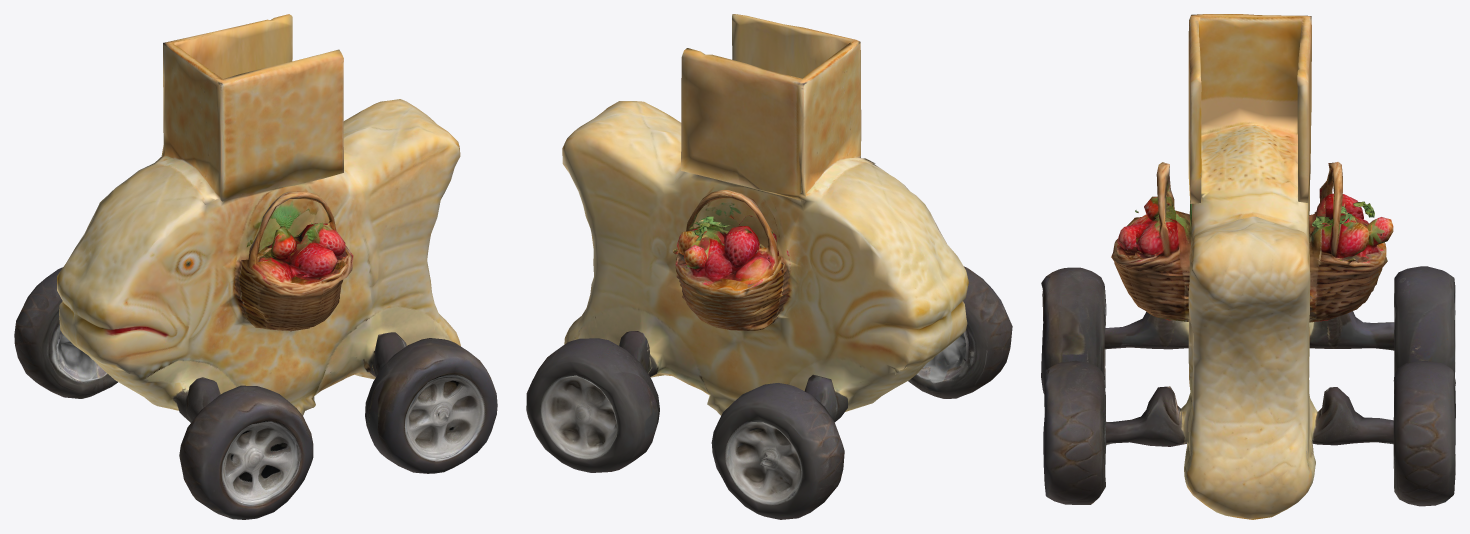
The model's file is Fishy_Wheels_Delight_0522124009_texture.glb.
The picture shows the model from 3 angles, left to right: view 1: azimuth 30°, elevation 25°; view 2: azimuth 150°, elevation 25°; view 3: azimuth 270°, elevation 25°; orthographic projection. The views are drawn at different scales.
Bounding box in the file's own units: 2 × 2 × 1.85.
Materials: 1 (1 with a texture image).
